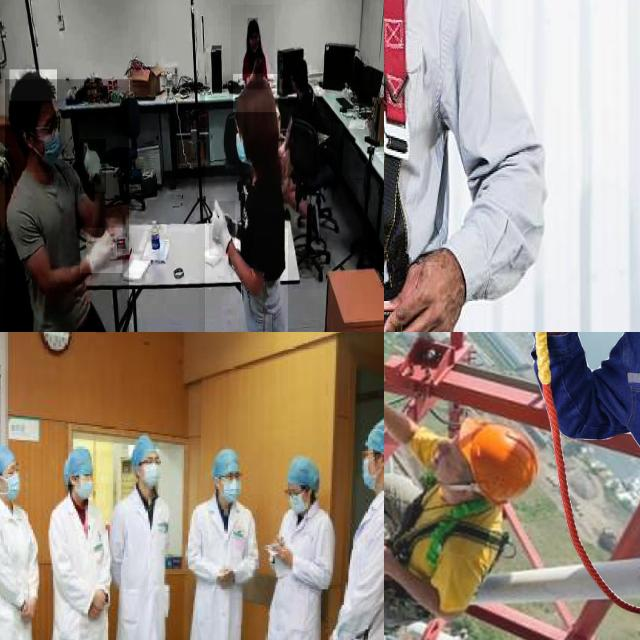face_mask: (24, 111, 65, 173), (136, 453, 164, 491), (357, 444, 382, 486), (0, 462, 25, 499), (73, 466, 99, 501), (217, 468, 246, 499), (286, 482, 308, 514)
face_nomask: (248, 33, 259, 51)
hand_glove: (80, 228, 122, 273), (80, 139, 106, 194), (209, 201, 235, 256)
hand_noglove: (22, 597, 38, 622), (276, 545, 293, 568), (221, 565, 235, 589), (95, 588, 107, 610), (88, 602, 101, 620), (272, 534, 284, 551), (252, 54, 262, 72), (278, 142, 286, 158), (325, 635, 339, 640)
head_nohelmet: (233, 74, 279, 113), (10, 70, 58, 102), (290, 55, 307, 71), (248, 18, 258, 30)
person: (4, 79, 129, 332), (205, 89, 288, 332), (188, 445, 257, 640), (50, 442, 114, 640), (118, 434, 178, 640), (333, 415, 384, 640), (267, 457, 327, 640), (0, 438, 41, 640), (231, 5, 275, 90)
